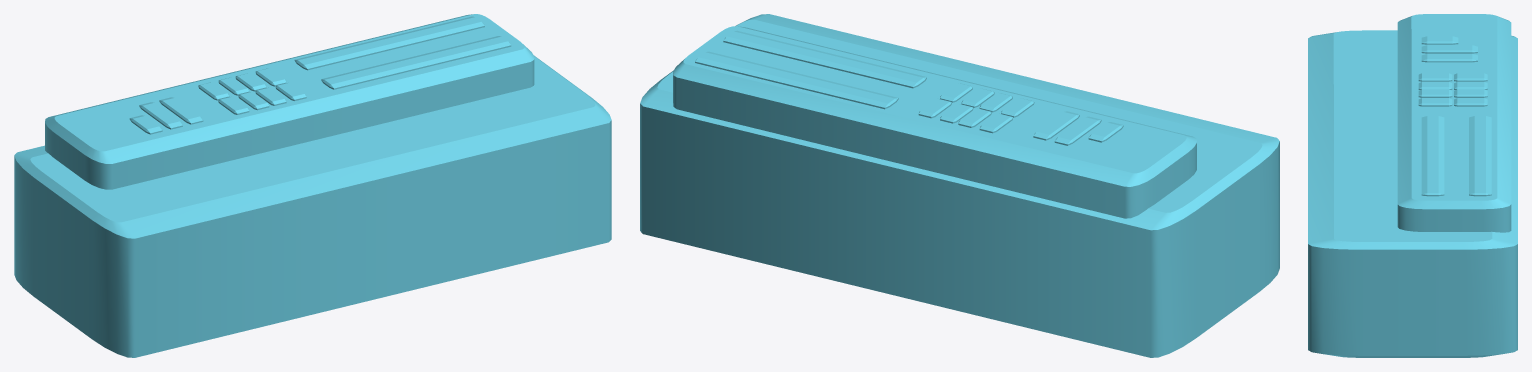
The model's file is big.gltf.
3 views of the same model, side by side, from view 1: azimuth 30°, elevation 25°; view 2: azimuth 150°, elevation 25°; view 3: azimuth 270°, elevation 25° (orthographic). The views are drawn at different scales.
Visible parts, largest first — view 1: 大; view 2: 大; view 3: 大.
Part boxes in pixels (<box>): 大: <box>14,14,611,357</box>; 大: <box>640,14,1279,357</box>; 大: <box>1308,14,1517,357</box>.
Bounding box in the file's own units: 4.35 × 1.41 × 1.77.
